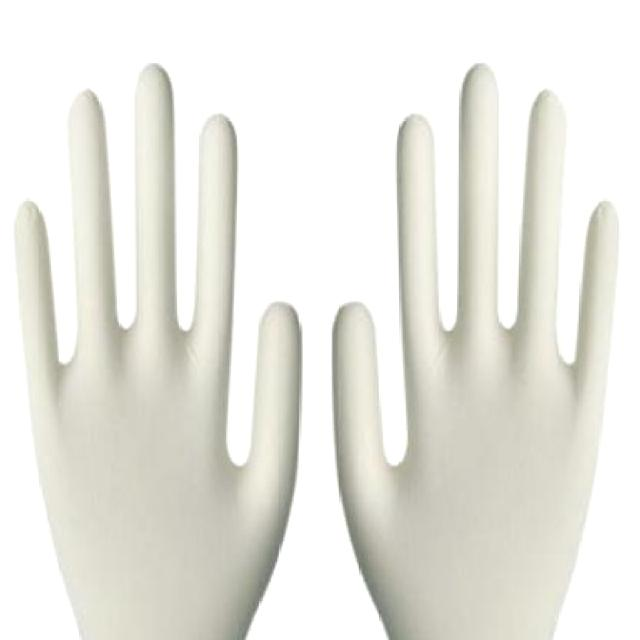glove: (11, 49, 315, 638), (329, 56, 633, 638)
